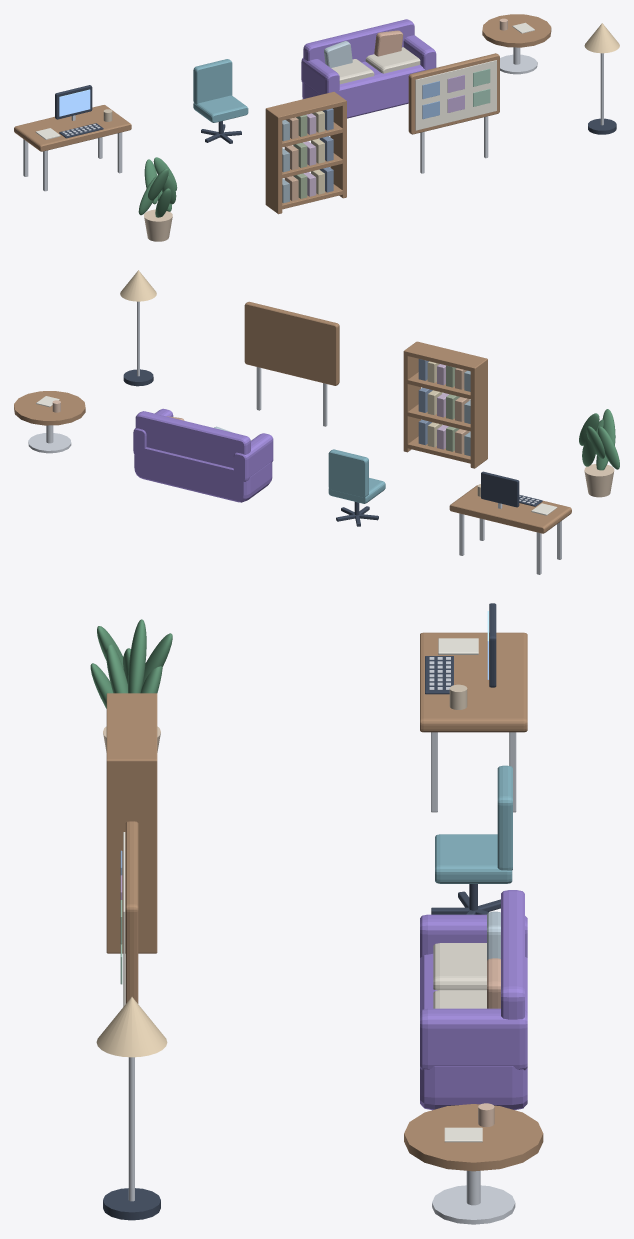
The model's file is furniture-kit.glb.
The picture shows the model from 3 angles, top to bottom: view 1: azimuth 30°, elevation 25°; view 2: azimuth 150°, elevation 25°; view 3: azimuth 270°, elevation 25°; orthographic projection. The views are drawn at different scales.
Parts seen in each view (by area): view 1: furniture-sofa, furniture-shelf, furniture-board, furniture-desk, furniture-chair, furniture-table, furniture-plant, furniture-lamp; view 2: furniture-sofa, furniture-shelf, furniture-board, furniture-desk, furniture-table, furniture-chair, furniture-plant, furniture-lamp; view 3: furniture-sofa, furniture-desk, furniture-shelf, furniture-table, furniture-chair, furniture-lamp, furniture-plant, furniture-board.
Part boxes in pixels (left/top/right/bottom): furniture-sofa: left=301, top=19, right=436, bottom=118; furniture-shelf: left=265, top=91, right=346, bottom=214; furniture-board: left=408, top=53, right=499, bottom=173; furniture-desk: left=14, top=85, right=131, bottom=191; furniture-chair: left=193, top=59, right=248, bottom=143; furniture-table: left=482, top=14, right=551, bottom=74; furniture-plant: left=138, top=157, right=177, bottom=241; furniture-lamp: left=584, top=23, right=619, bottom=134; furniture-sofa: left=133, top=408, right=273, bottom=502; furniture-shelf: left=403, top=341, right=487, bottom=468; furniture-board: left=244, top=301, right=339, bottom=426; furniture-desk: left=449, top=471, right=571, bottom=574; furniture-table: left=14, top=391, right=85, bottom=453; furniture-chair: left=328, top=449, right=385, bottom=526; furniture-plant: left=579, top=409, right=619, bottom=497; furniture-lamp: left=120, top=270, right=156, bottom=386; furniture-sofa: left=420, top=890, right=527, bottom=1110; furniture-desk: left=420, top=603, right=527, bottom=812; furniture-shelf: left=106, top=693, right=157, bottom=953; furniture-table: left=404, top=1103, right=543, bottom=1224; furniture-chair: left=431, top=765, right=512, bottom=914; furniture-lamp: left=96, top=997, right=167, bottom=1220; furniture-plant: left=90, top=619, right=172, bottom=752; furniture-board: left=120, top=821, right=138, bottom=1006.
Size of the model in its own units: 9.49 by 1.85 by 3.58.
